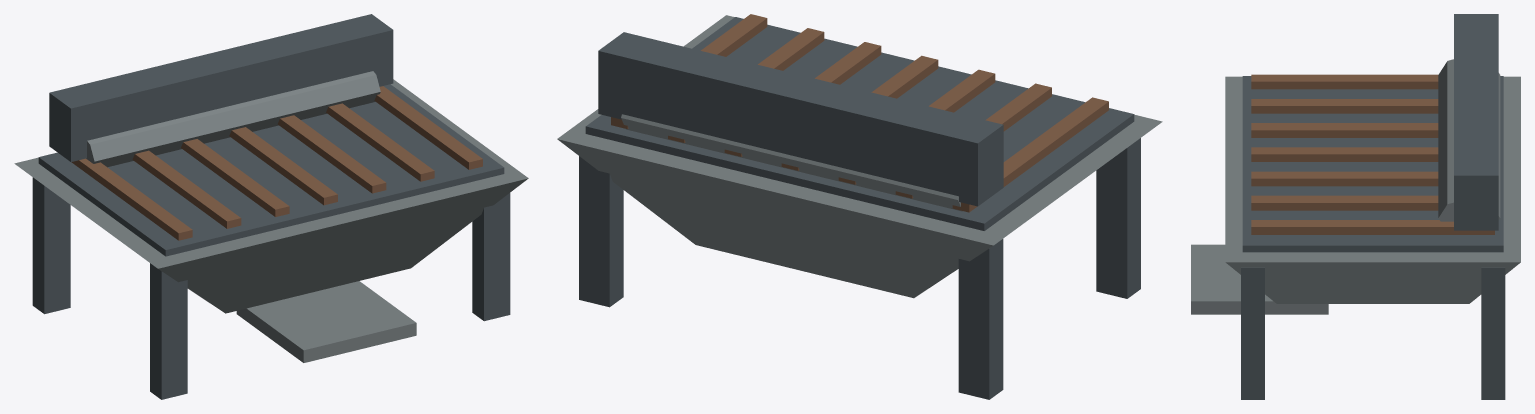
File: coal_sorter.glb
3 views of the same model, side by side, from view 1: azimuth 30°, elevation 25°; view 2: azimuth 150°, elevation 25°; view 3: azimuth 270°, elevation 25° (orthographic). The views are drawn at different scales.
Parts seen in each view (by area): view 1: coal_sorter; view 2: coal_sorter; view 3: coal_sorter.
Boxes of the visible parts, x1,y1,x2,y2 form: coal_sorter: [14, 14, 528, 399]; coal_sorter: [557, 14, 1162, 399]; coal_sorter: [1191, 14, 1520, 399].
Bounding box in the file's own units: 3.84 × 2.1 × 2.88.
